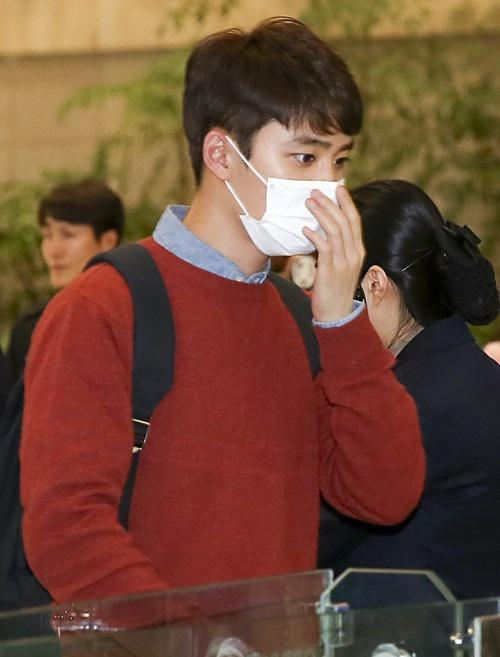NONE: (40, 221, 91, 283)
OK: (254, 136, 351, 254)
